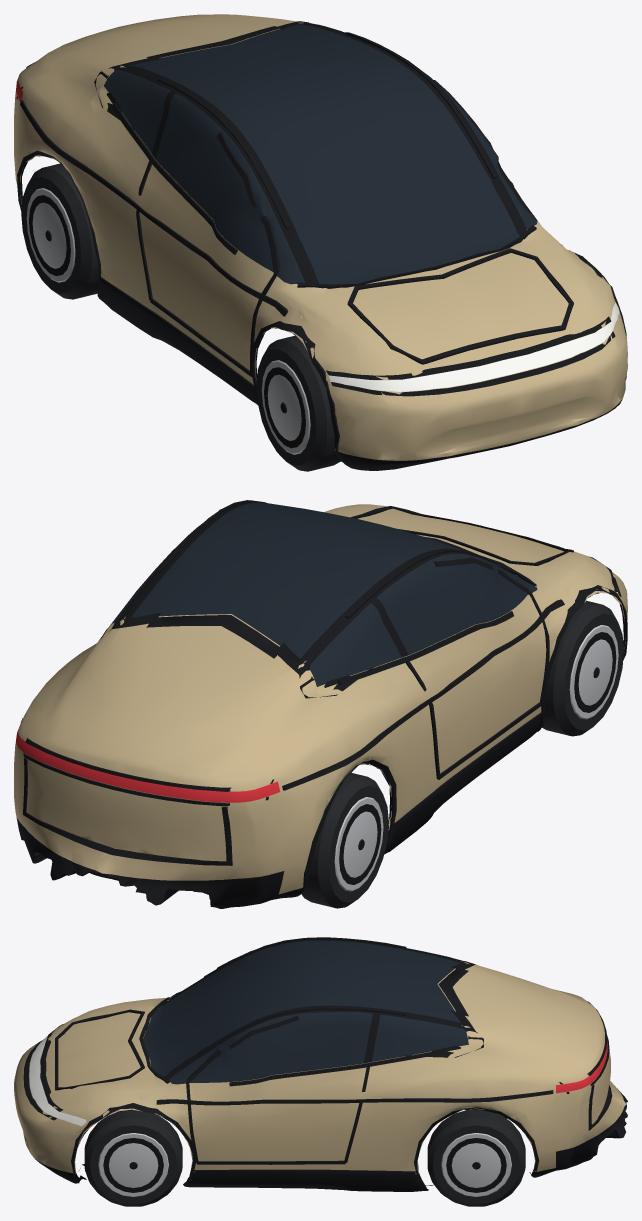
File: cybercab.glb
3 views of the same model, one above another, from view 1: azimuth 30°, elevation 25°; view 2: azimuth 150°, elevation 25°; view 3: azimuth 270°, elevation 25° (orthographic). The views are drawn at different scales.
Parts seen in each view (by area): view 1: body, wheel_FR, wheel_RR; view 2: body, wheel_RR, wheel_FR; view 3: body, wheel_RL, wheel_FL.
Part boxes in pixels (<box>): body: <box>14,14,627,470</box>; wheel_FR: <box>256,335,339,471</box>; wheel_RR: <box>21,163,98,299</box>; body: <box>14,500,627,908</box>; wheel_RR: <box>301,773,388,908</box>; wheel_FR: <box>542,600,623,736</box>; body: <box>14,937,627,1191</box>; wheel_RL: <box>427,1109,525,1206</box>; wheel_FL: <box>84,1110,182,1206</box>.
Bounding box in the file's own units: 1.96 × 1.51 × 4.55.
